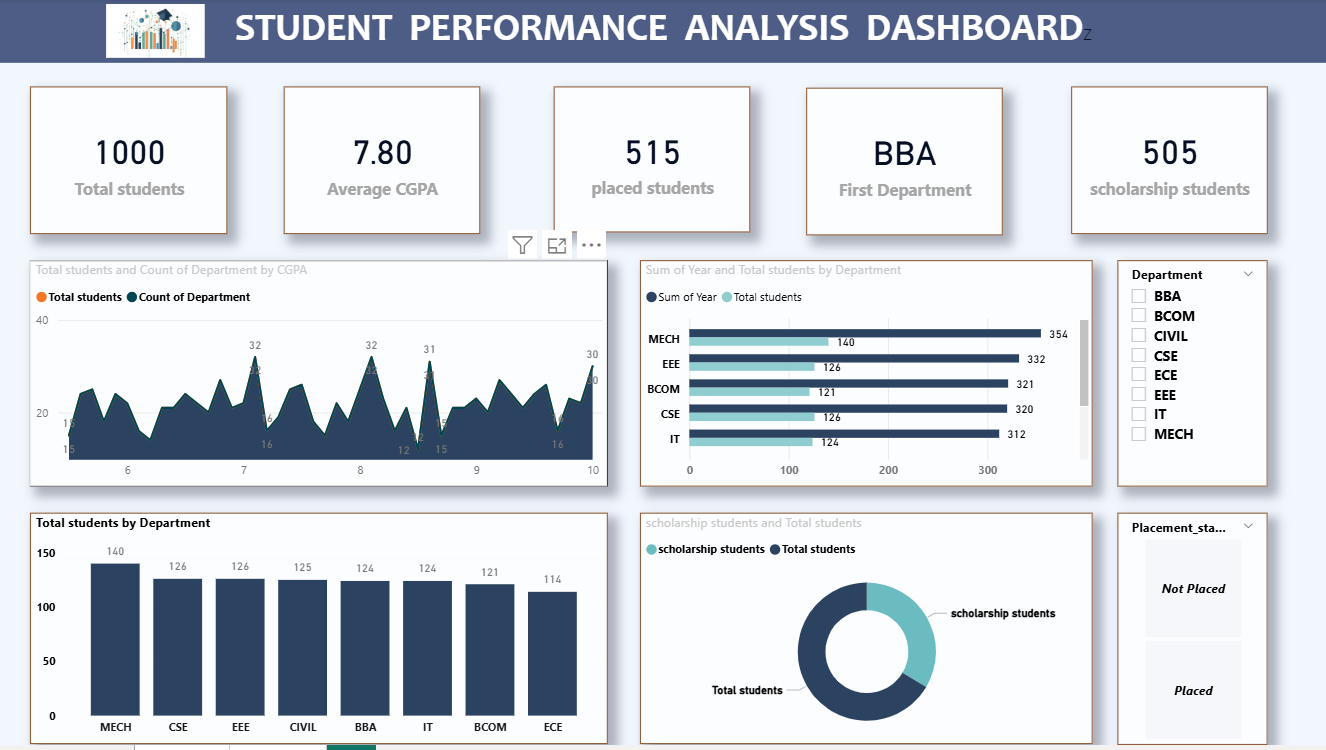

This screenshot's page, from the dashboard's own definition file:
{"tool":"powerbi","page":{"name":"Page 2","canvas":[1280,720],"ordinal":1},"visuals":[{"type":"textbox","box":[0,0,1280,61.5],"z":0},{"type":"card","fields":{"Values":["College_Data.Total students"]},"box":[29,84.5,190.6,142.4],"z":1000},{"type":"card","fields":{"Values":["College_Data.Average CGPA"]},"box":[273.9,84.5,189.4,142.4],"z":2000},{"type":"card","fields":{"Values":["College_Data.placed students"]},"box":[534.5,84.5,189.4,141.2],"z":3000},{"type":"card","fields":{"Values":["Min(College_Data.Department)"]},"box":[778.2,85.7,189.4,142.4],"z":4000},{"type":"card","fields":{"Values":["College_Data.scholarship students"]},"box":[1033.9,84.5,189.4,142.4],"z":5000},{"type":"lineChart","fields":{"Y":["College_Data.Total students","CountNonNull(College_Data.Department)"],"Category":["College_Data.CGPA"]},"box":[29,252.1,557.4,218.4],"z":6000},{"type":"clusteredBarChart","fields":{"Y":["Sum(College_Data.Year)","College_Data.Total students"],"Category":["College_Data.Department"]},"box":[617.7,252.1,436.7,218.4],"z":7000},{"type":"slicer","fields":{"Values":["College_Data.Department"]},"box":[1078.6,252.1,144.8,218.4],"z":8000},{"type":"clusteredColumnChart","fields":{"Y":["College_Data.Total students"],"Category":["College_Data.Department"]},"box":[29,495.8,557.4,223.2],"z":9000},{"type":"donutChart","fields":{"Y":["College_Data.scholarship students","College_Data.Total students"]},"box":[617.7,495.8,436.7,223.2],"z":10000},{"type":"slicer","fields":{"Values":["College_Data.Placement_Status"]},"box":[1078.6,495.8,144.8,224.4],"z":11000},{"type":"image","box":[0,0,300.4,61.5],"z":12000}]}

Visuals, with their boxes in screenshot pixels (x1, y1, x2, y2), scaled from the page's 1280x720 canvas onto the 1326x750 screenshot:
textbox: box(0, 0, 1325, 64)
card - College_Data.Total students: box(30, 88, 227, 236)
card - College_Data.Average CGPA: box(284, 88, 480, 236)
card - College_Data.placed students: box(554, 88, 750, 235)
card - Min(College_Data.Department): box(806, 89, 1002, 238)
card - College_Data.scholarship students: box(1071, 88, 1267, 236)
lineChart - College_Data.Total students x CountNonNull(College_Data.Department): box(30, 263, 607, 490)
clusteredBarChart - Sum(College_Data.Year) x College_Data.Total students: box(640, 263, 1092, 490)
slicer - College_Data.Department: box(1117, 263, 1267, 490)
clusteredColumnChart - College_Data.Total students x College_Data.Department: box(30, 516, 607, 749)
donutChart - College_Data.scholarship students x College_Data.Total students: box(640, 516, 1092, 749)
slicer - College_Data.Placement_Status: box(1117, 516, 1267, 749)
image: box(0, 0, 311, 64)
